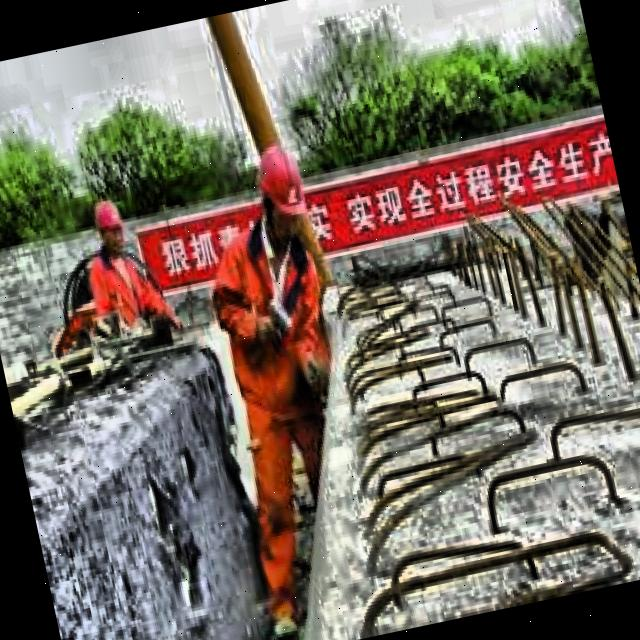helmet: (250, 141, 316, 254), (88, 195, 130, 256)
